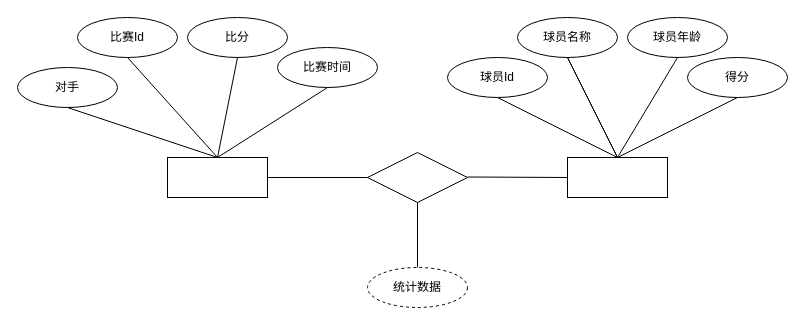
Some shapes in this 805 by 325 pixel diagram are drawn without their labels. Here are the shapes that lost their labels. From the top down, the box of each, then its label:
(166, 156, 268, 198): 比赛
(366, 152, 468, 202): 上场
(566, 156, 668, 198): 球员
